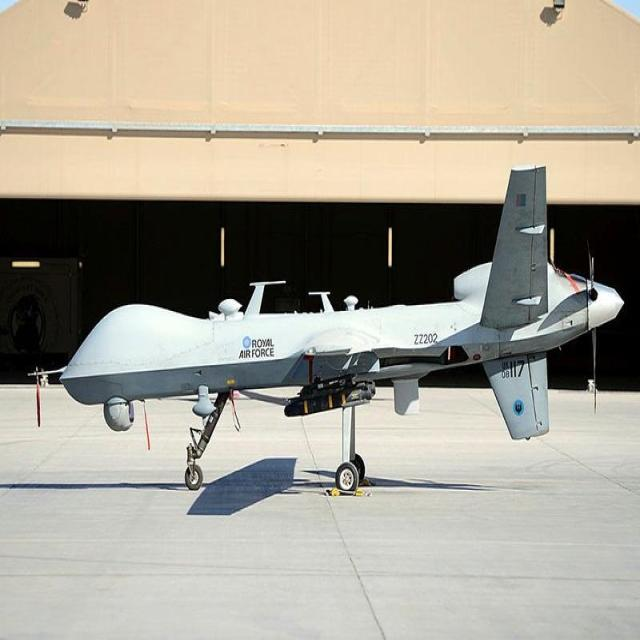MQ9: (11, 105, 640, 551)
